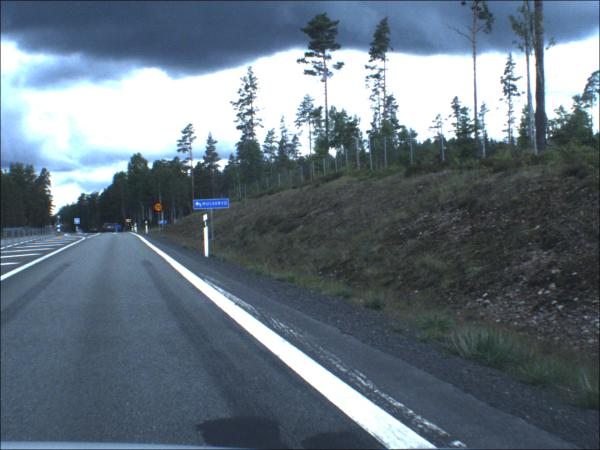70_SIGN: (155, 205, 165, 215), (127, 220, 133, 224)
PASS_RIGHT_SIDE: (75, 219, 82, 226)
PRIORITY_ROAD: (128, 224, 132, 227)
